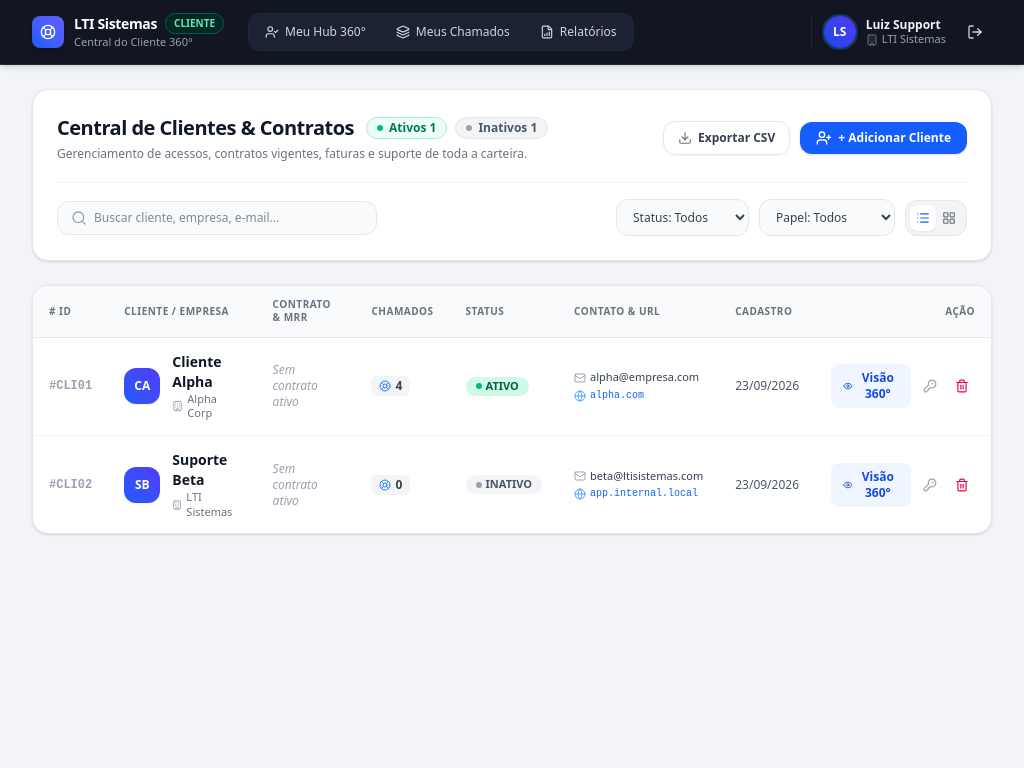
Scenario: components/suporte/UsersClientView › should filter users by search query across multiple fields
The width and height of the screenshot is (1024, 768).
# By company
Type "Alpha Corp" into the field with placeholder "Buscar cliente, empresa, e-mail..." at point(217, 218), box [57,200,377,234]
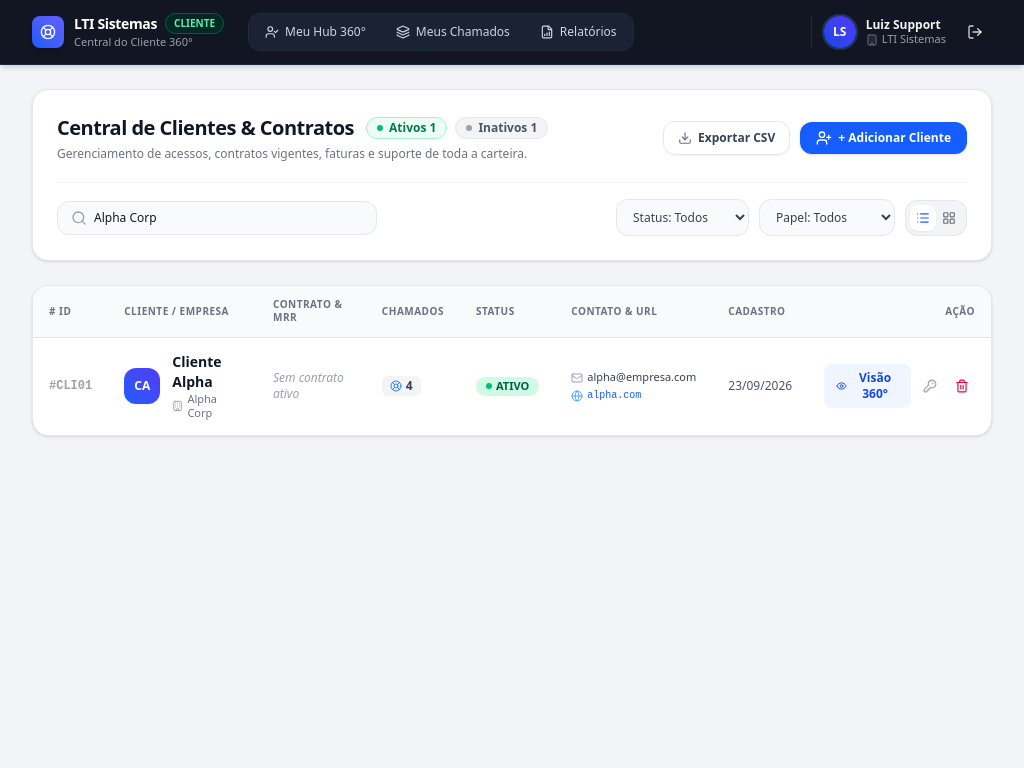
Expected: the text "Cliente Alpha" is shown, [172,352,222,391]
Result: the text "Suporte Beta" is gone
# By contract
Replace the text in the field with placeholder "Buscar cliente, empresa, e-mail..." with "CTR-01" at point(217, 218), box [57,200,377,234]
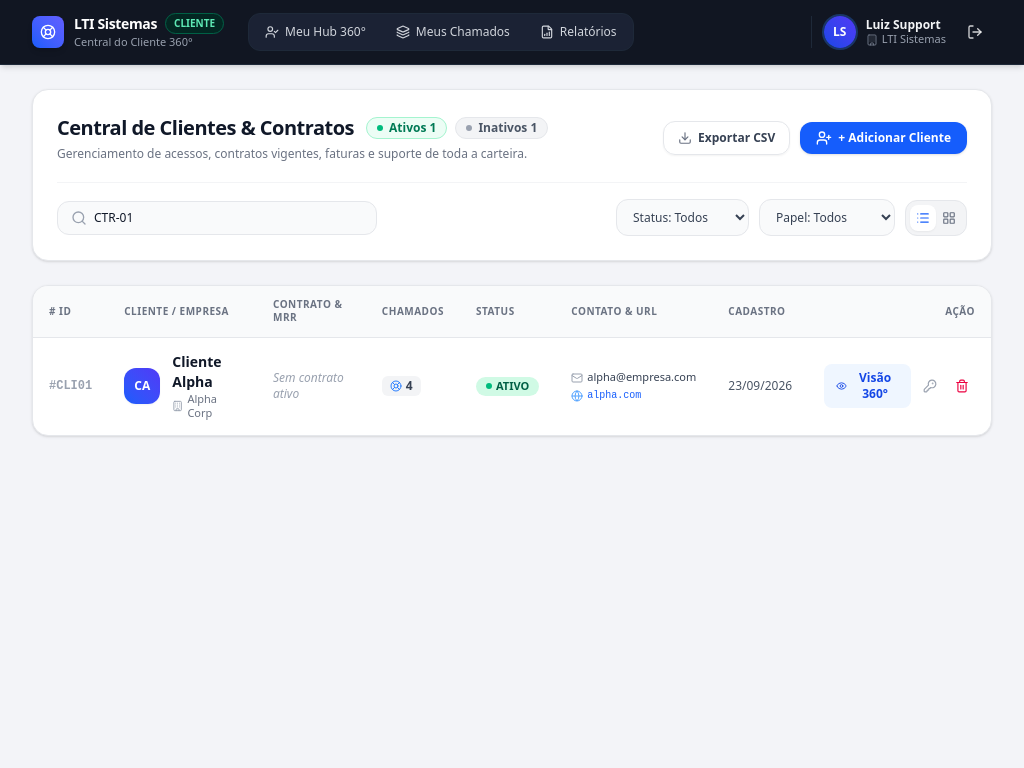
Expected: the text "Cliente Alpha" is shown, [172,352,222,391]
# By systemUrl
Replace the text in the field with placeholder "Buscar cliente, empresa, e-mail..." with "internal.local" at point(217, 218), box [57,200,377,234]
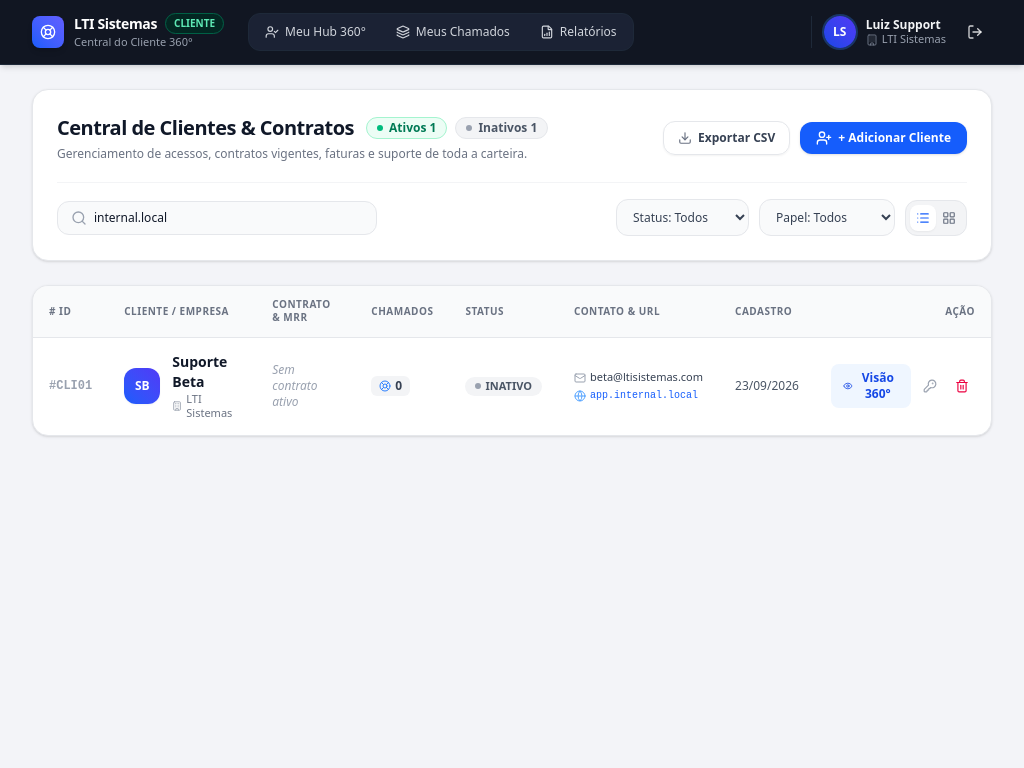
Result: the text "Suporte Beta" is shown at [172,352,227,391]
# Empty result
Replace the text in the field with placeholder "Buscar cliente, empresa, e-mail..." with "NonExistentUser123" at point(217, 218), box [57,200,377,234]
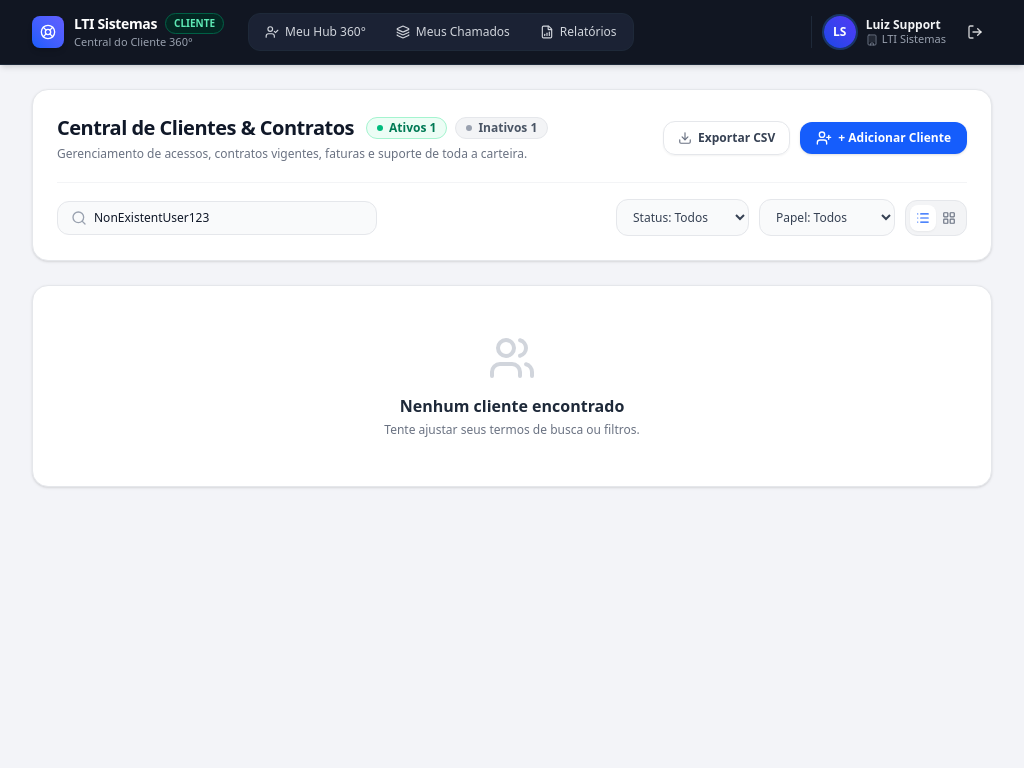
Result: the heading "Nenhum cliente encontrado" is shown at [400,395,624,417]
